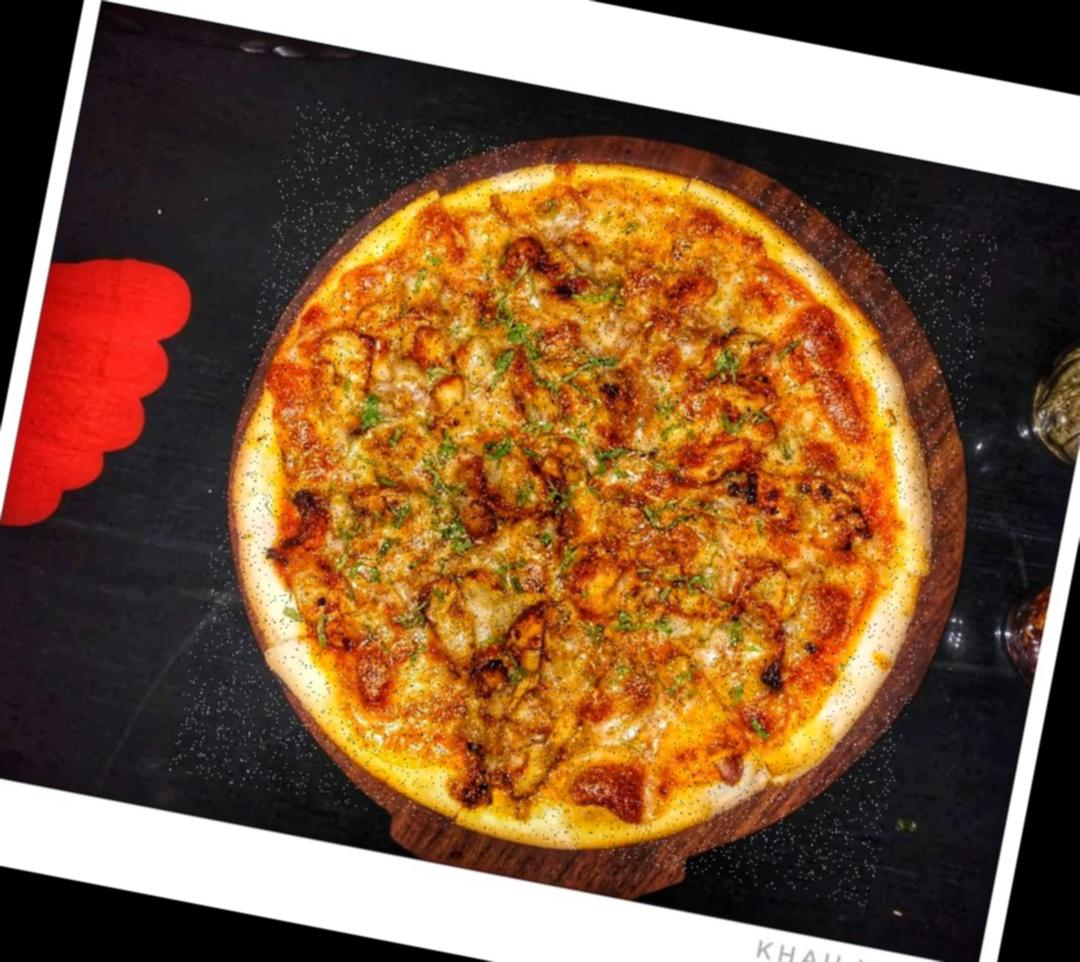Chicken: (400, 571, 490, 682), (304, 328, 384, 436), (451, 454, 523, 546), (666, 427, 755, 497), (562, 551, 628, 624), (749, 602, 800, 692), (506, 603, 556, 679), (494, 229, 545, 290), (541, 436, 594, 486), (404, 324, 454, 372), (431, 372, 470, 416)
Pizza: (168, 98, 1002, 908)
